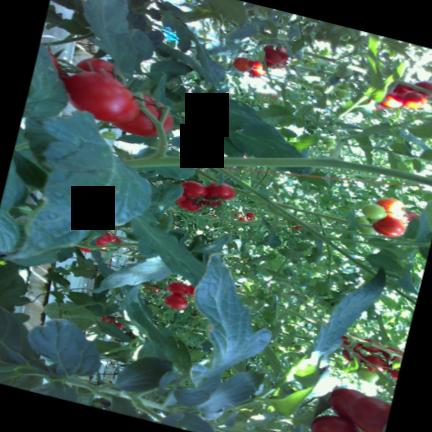6kp_peduncle: (124, 110, 193, 168)
6kp_petiole: (167, 156, 270, 202), (300, 141, 366, 171)
MainStem: (121, 156, 432, 186)
tomato: (63, 71, 138, 122), (112, 94, 172, 136), (348, 396, 390, 432), (328, 388, 365, 419), (310, 415, 359, 432), (76, 57, 113, 77), (371, 216, 404, 236), (232, 57, 265, 76), (263, 45, 287, 68), (375, 197, 403, 215), (206, 182, 234, 199), (180, 180, 206, 197), (400, 91, 426, 108), (361, 203, 385, 219), (94, 232, 121, 246), (379, 92, 402, 108), (364, 355, 386, 371), (164, 294, 187, 309), (177, 197, 200, 211), (166, 282, 189, 295), (232, 57, 253, 71), (381, 347, 402, 360), (415, 80, 432, 96), (361, 338, 380, 352), (341, 349, 362, 361), (392, 83, 414, 94), (387, 369, 398, 379), (175, 192, 185, 202), (340, 335, 349, 345), (187, 285, 193, 296), (244, 212, 253, 218)
